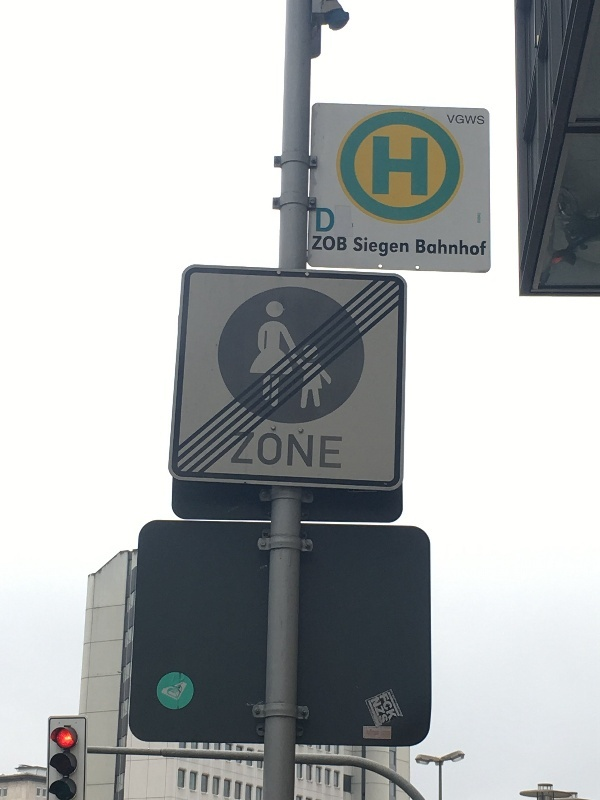text: (385, 137, 400, 196), (401, 137, 416, 196), (417, 137, 428, 196), (374, 137, 384, 196), (241, 431, 256, 468), (257, 431, 272, 468), (273, 431, 288, 468), (289, 431, 304, 468), (305, 431, 320, 468), (321, 431, 336, 468), (369, 236, 384, 263), (385, 236, 400, 263), (387, 693, 400, 721), (355, 236, 368, 263), (321, 208, 335, 233), (233, 431, 240, 468), (417, 240, 432, 256), (433, 240, 448, 256), (449, 240, 464, 256), (465, 240, 480, 256), (321, 236, 336, 251), (337, 431, 343, 468), (401, 236, 409, 263), (337, 236, 347, 251), (449, 115, 464, 125), (465, 115, 480, 125), (379, 697, 384, 725), (385, 697, 389, 725), (313, 236, 320, 251), (481, 240, 487, 256), (317, 208, 320, 233), (481, 115, 485, 125), (447, 115, 448, 125)
